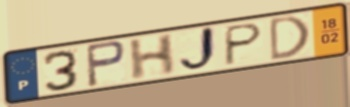3: (41, 48, 81, 93)
D: (268, 13, 312, 64)
H: (128, 31, 177, 82)
J: (177, 24, 220, 75)
P: (84, 39, 128, 89), (222, 21, 266, 68)
